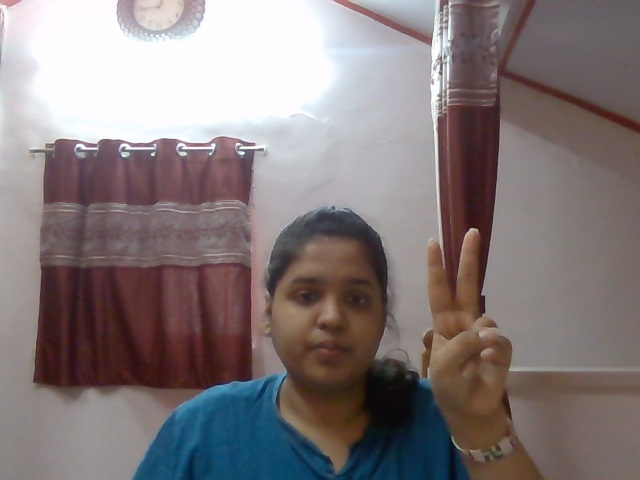v: (382, 225, 552, 418)
